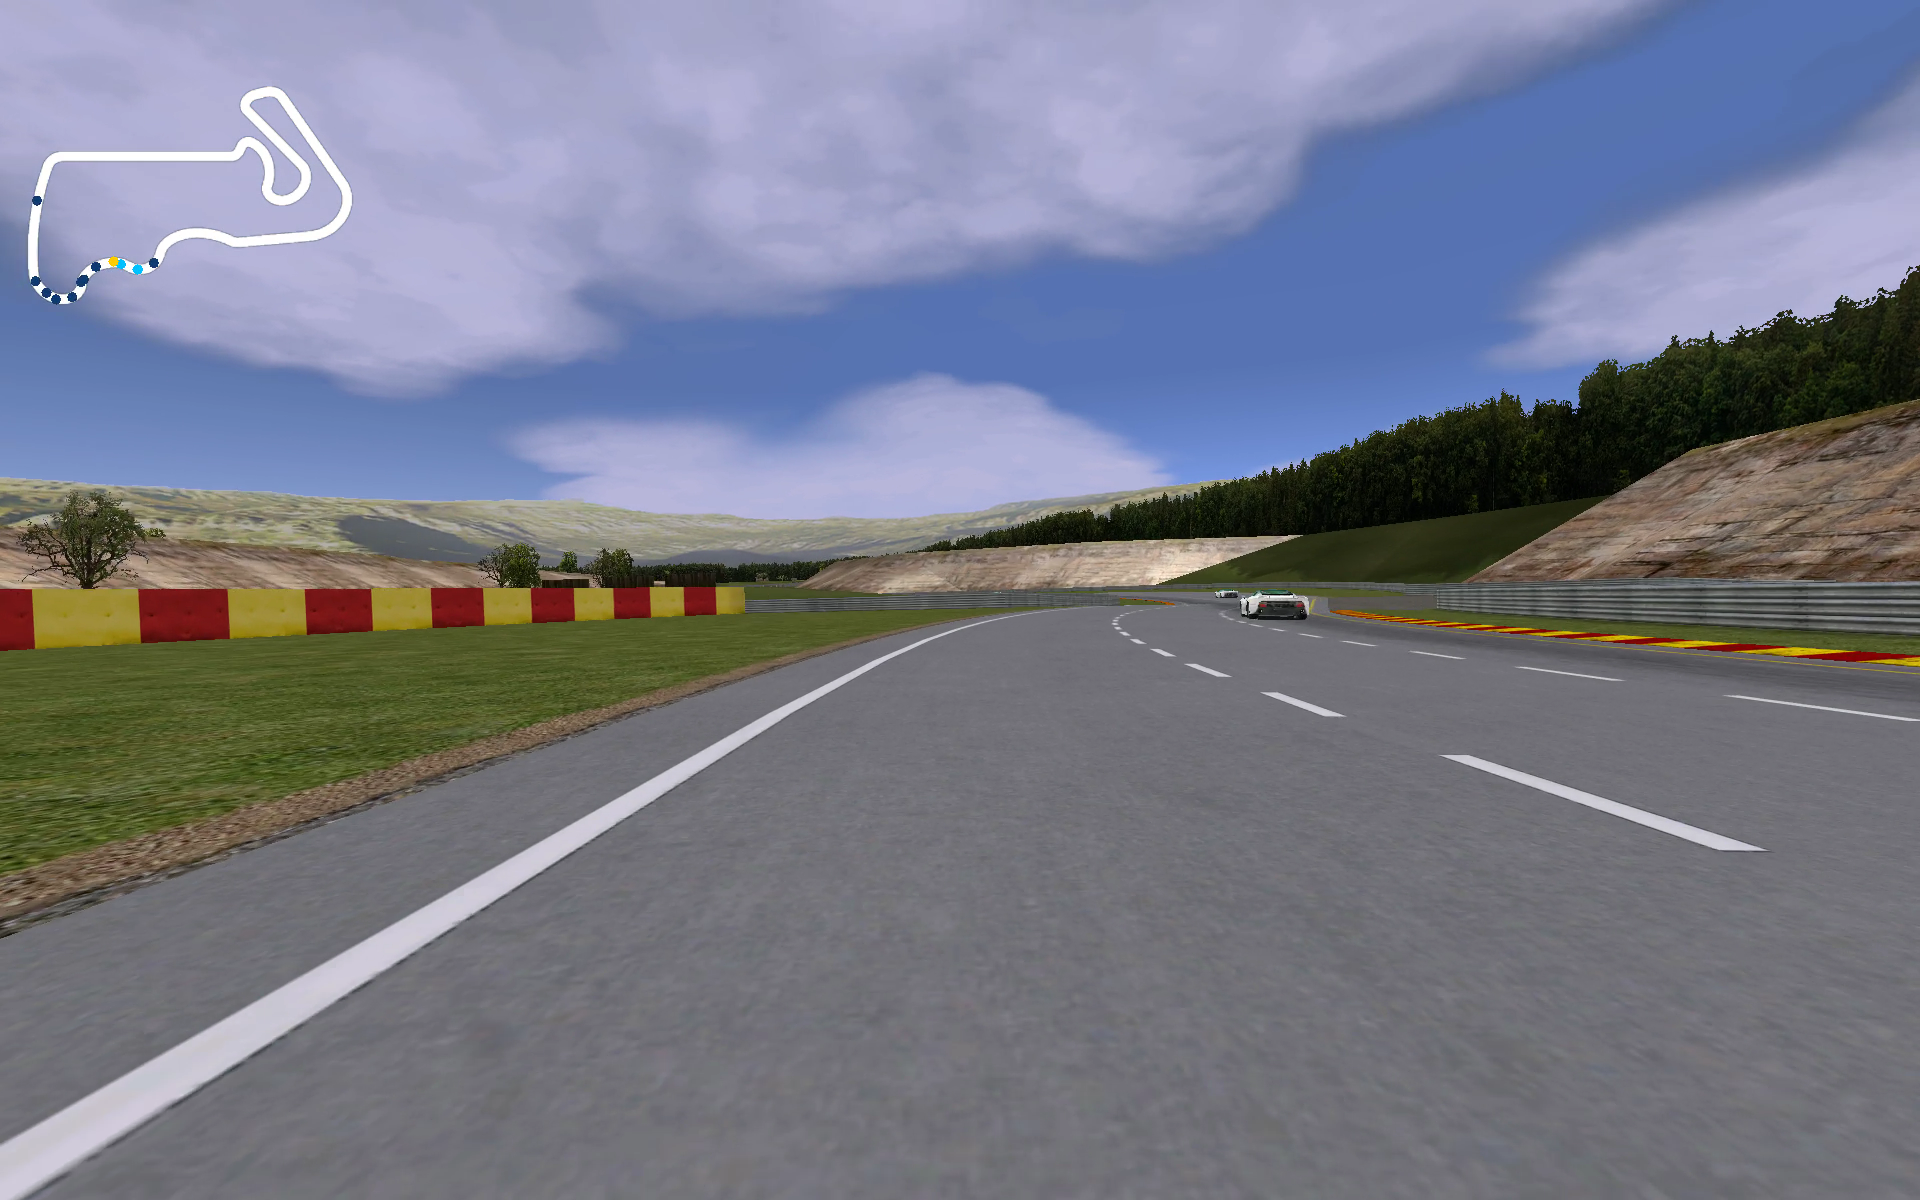car: (1239, 588, 1313, 622)
